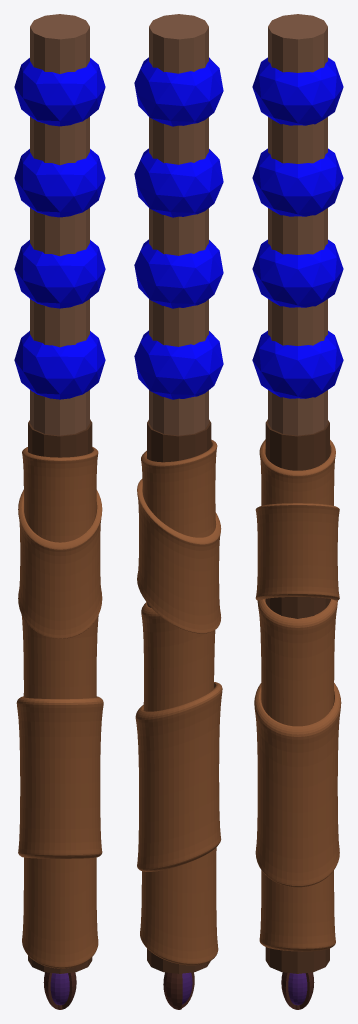
The model's file is Wand 337.glb.
3 views of the same model, side by side, from view 1: azimuth 90°, elevation 25°; view 2: azimuth 150°, elevation 25°; view 3: azimuth 270°, elevation 25° (orthographic).
Visible parts, largest first — view 1: GeneratedWand; view 2: GeneratedWand; view 3: GeneratedWand.
Boxes of the visible parts, x1,y1,x2,y2 form: GeneratedWand: (14,14,105,1009); GeneratedWand: (134,14,223,1009); GeneratedWand: (252,14,343,1009).
Size of the model in its own units: 0.0408 by 0.509 by 0.0428.
